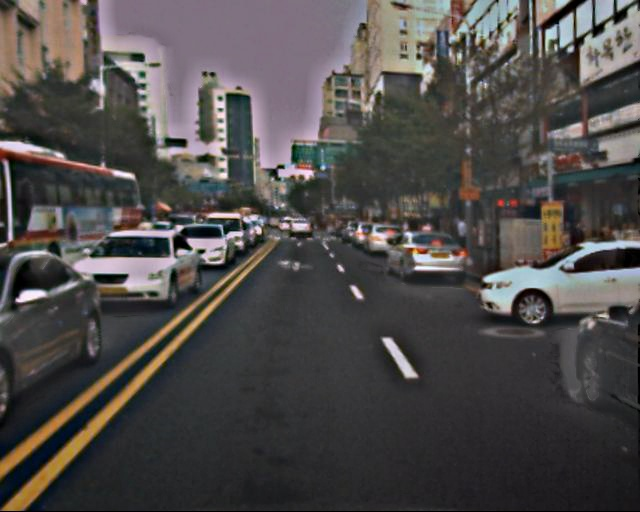person: (452, 213, 474, 265)
